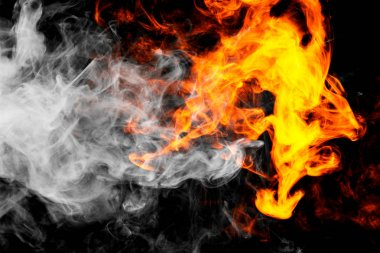fire: (185, 11, 352, 221)
